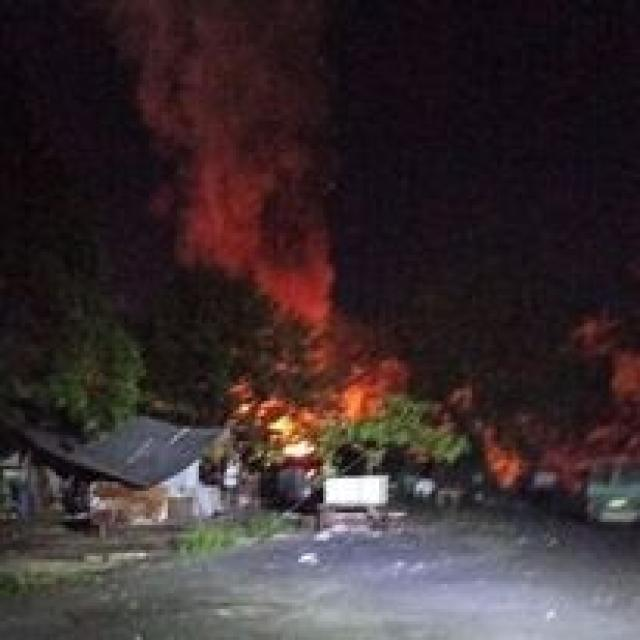Fire: (332, 358, 426, 426), (232, 376, 314, 451)
Smoke: (104, 0, 366, 321)
